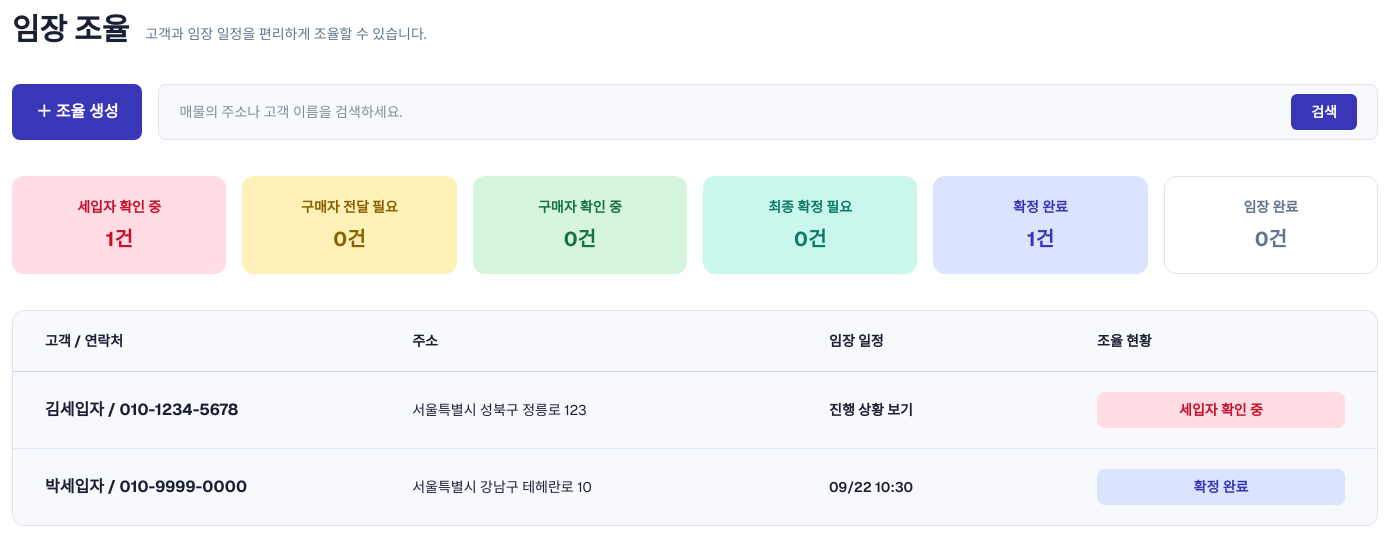
Test: CoordinationList › 상태 요약 박스를 클릭하면 그 상태로 목록을 필터링하고, 다시 누르면 해제한다
Expected: the text "김세입자 / 010-1234-5678" is shown, 45,399 -> 238,420
What coordinates should you click on to do the following:
click the button "세입자 확인 중 1건"
I would click on:
 (119, 225)
Its box is 12,176 -> 226,274.
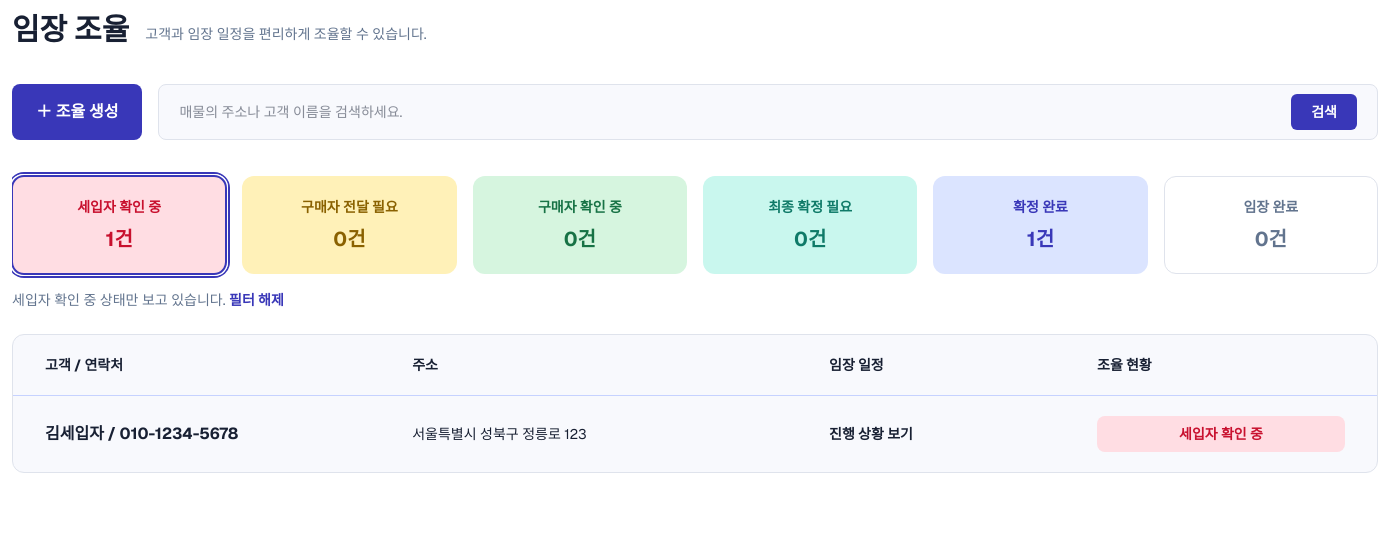
Expected: the text "김세입자 / 010-1234-5678" is shown, 45,423 -> 238,444
Result: the link "박세입자 / 010-9999-0000" is gone
What coordinates should you click on to do the following:
click the button "세입자 확인 중 1건"
I would click on:
 (119, 225)
Its box is 12,176 -> 226,274.
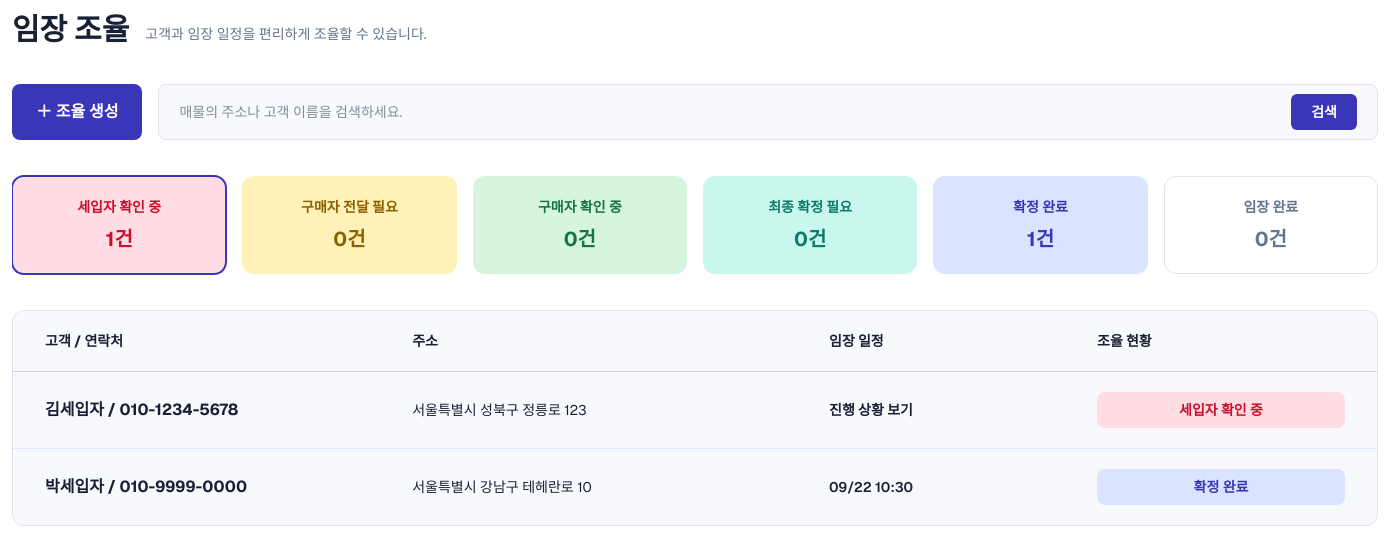
Result: the text "박세입자 / 010-9999-0000" is shown at 45,476 -> 247,497
